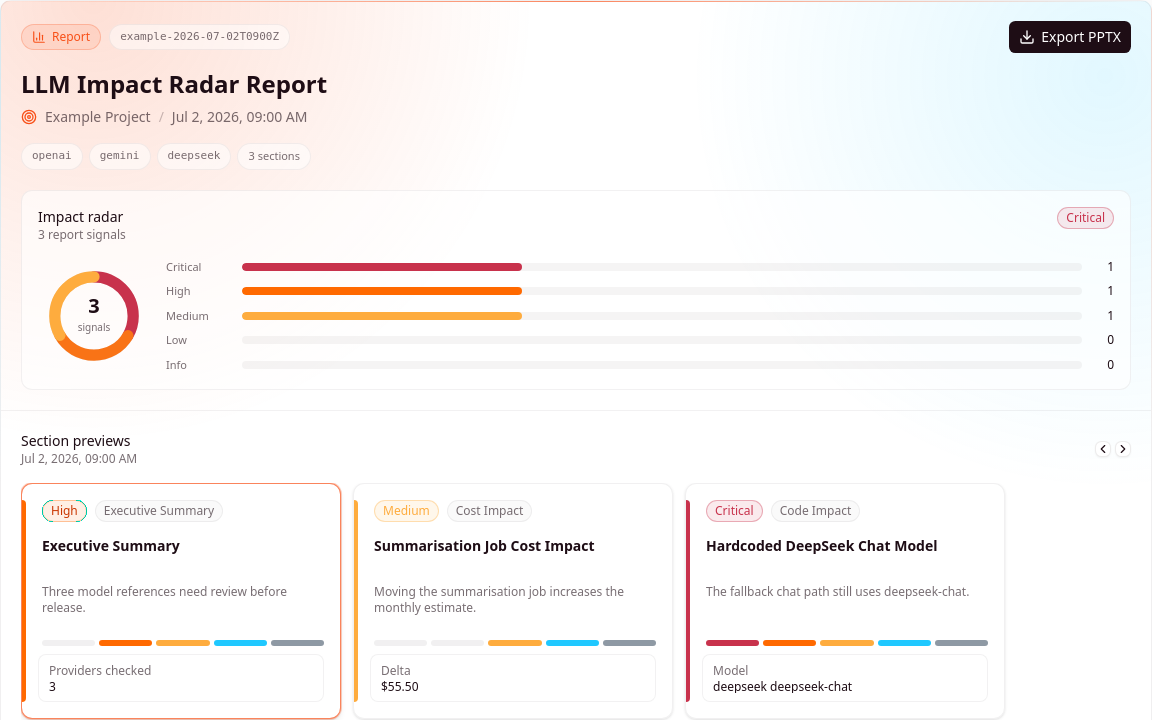
it: ReportOutputView › opens and closes the section modal
The width and height of the screenshot is (1152, 720).
Click the button "Executive Summary" at (181, 601), box [21,483,341,719]
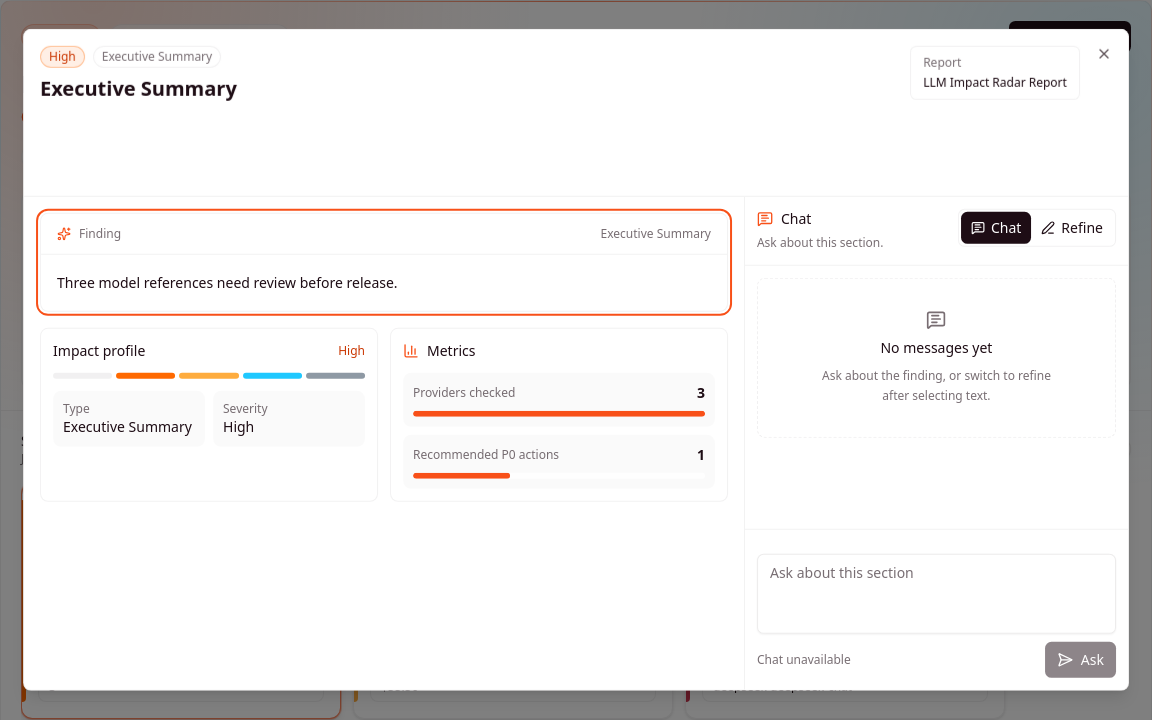
Now the dialog with test id "report-section-dialog" is shown
Click the button named "Close" at (1104, 54), box [1096,46,1112,62]
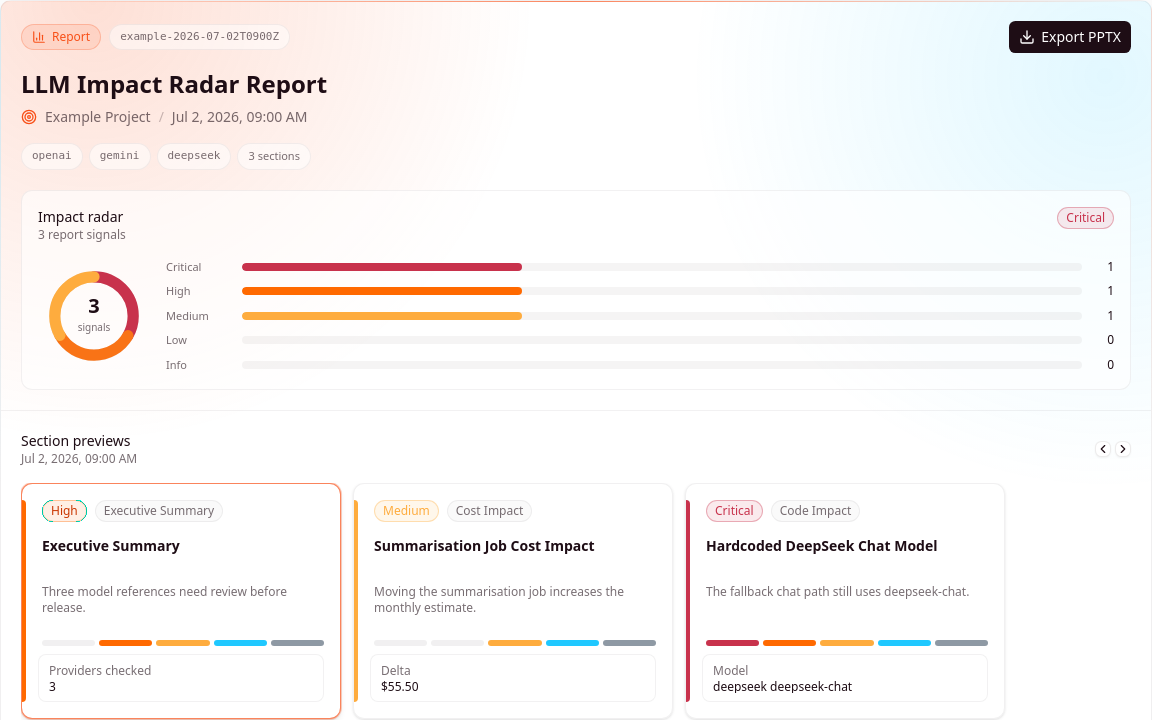
Now the dialog with test id "report-section-dialog" is gone
